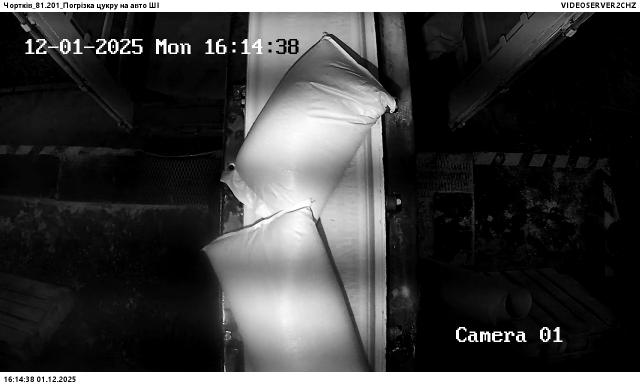bag: (218, 31, 397, 231), (203, 203, 369, 372)
